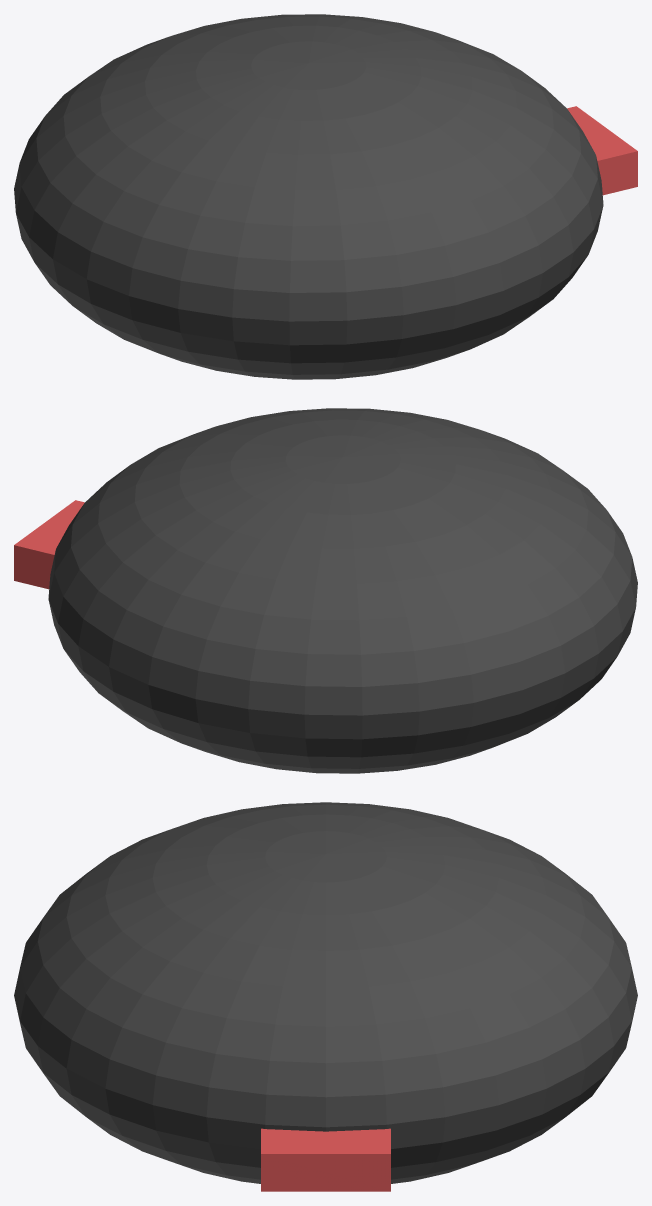
File: cap_a.glb
The picture shows the model from 3 angles, top to bottom: view 1: azimuth 30°, elevation 25°; view 2: azimuth 150°, elevation 25°; view 3: azimuth 270°, elevation 25°; orthographic projection. The views are drawn at different scales.
Visible parts, largest first — view 1: cap_a; view 2: cap_a; view 3: cap_a.
Boxes of the visible parts, <box> form: cap_a: <box>14,14,637,379</box>; cap_a: <box>14,408,637,773</box>; cap_a: <box>14,802,637,1191</box>.
Size of the model in its own units: 1.3 by 0.6 by 1.2.
